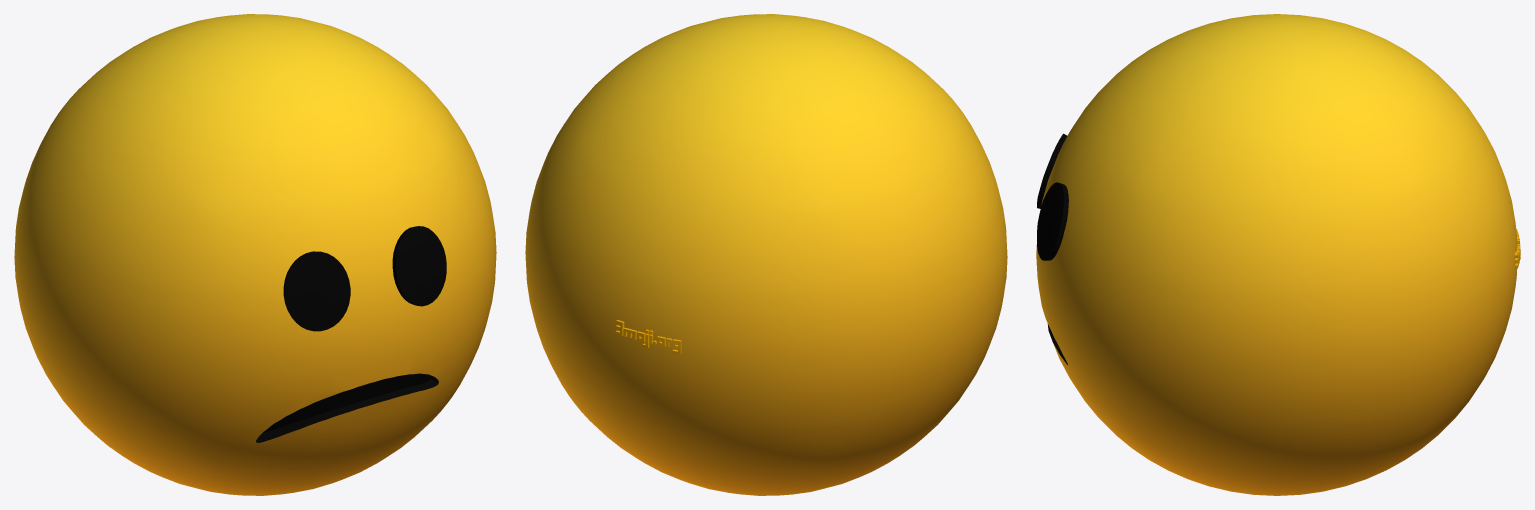
The model's file is confused_face.glb.
3 renders of one model, left to right at view 1: azimuth 30°, elevation 25°; view 2: azimuth 150°, elevation 25°; view 3: azimuth 270°, elevation 25°, orthographic.
Visible parts, largest first — view 1: Confused Face; view 2: Confused Face; view 3: Confused Face.
Part boxes in pixels (box(x1,y1,x2,y2)): Confused Face: box(14, 14, 496, 495); Confused Face: box(525, 14, 1007, 495); Confused Face: box(1036, 14, 1520, 495).
Bounding box in the file's own units: 1.69 × 1.69 × 1.7.
1 material, 1 textured.
